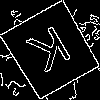K: (25, 25, 79, 81)
